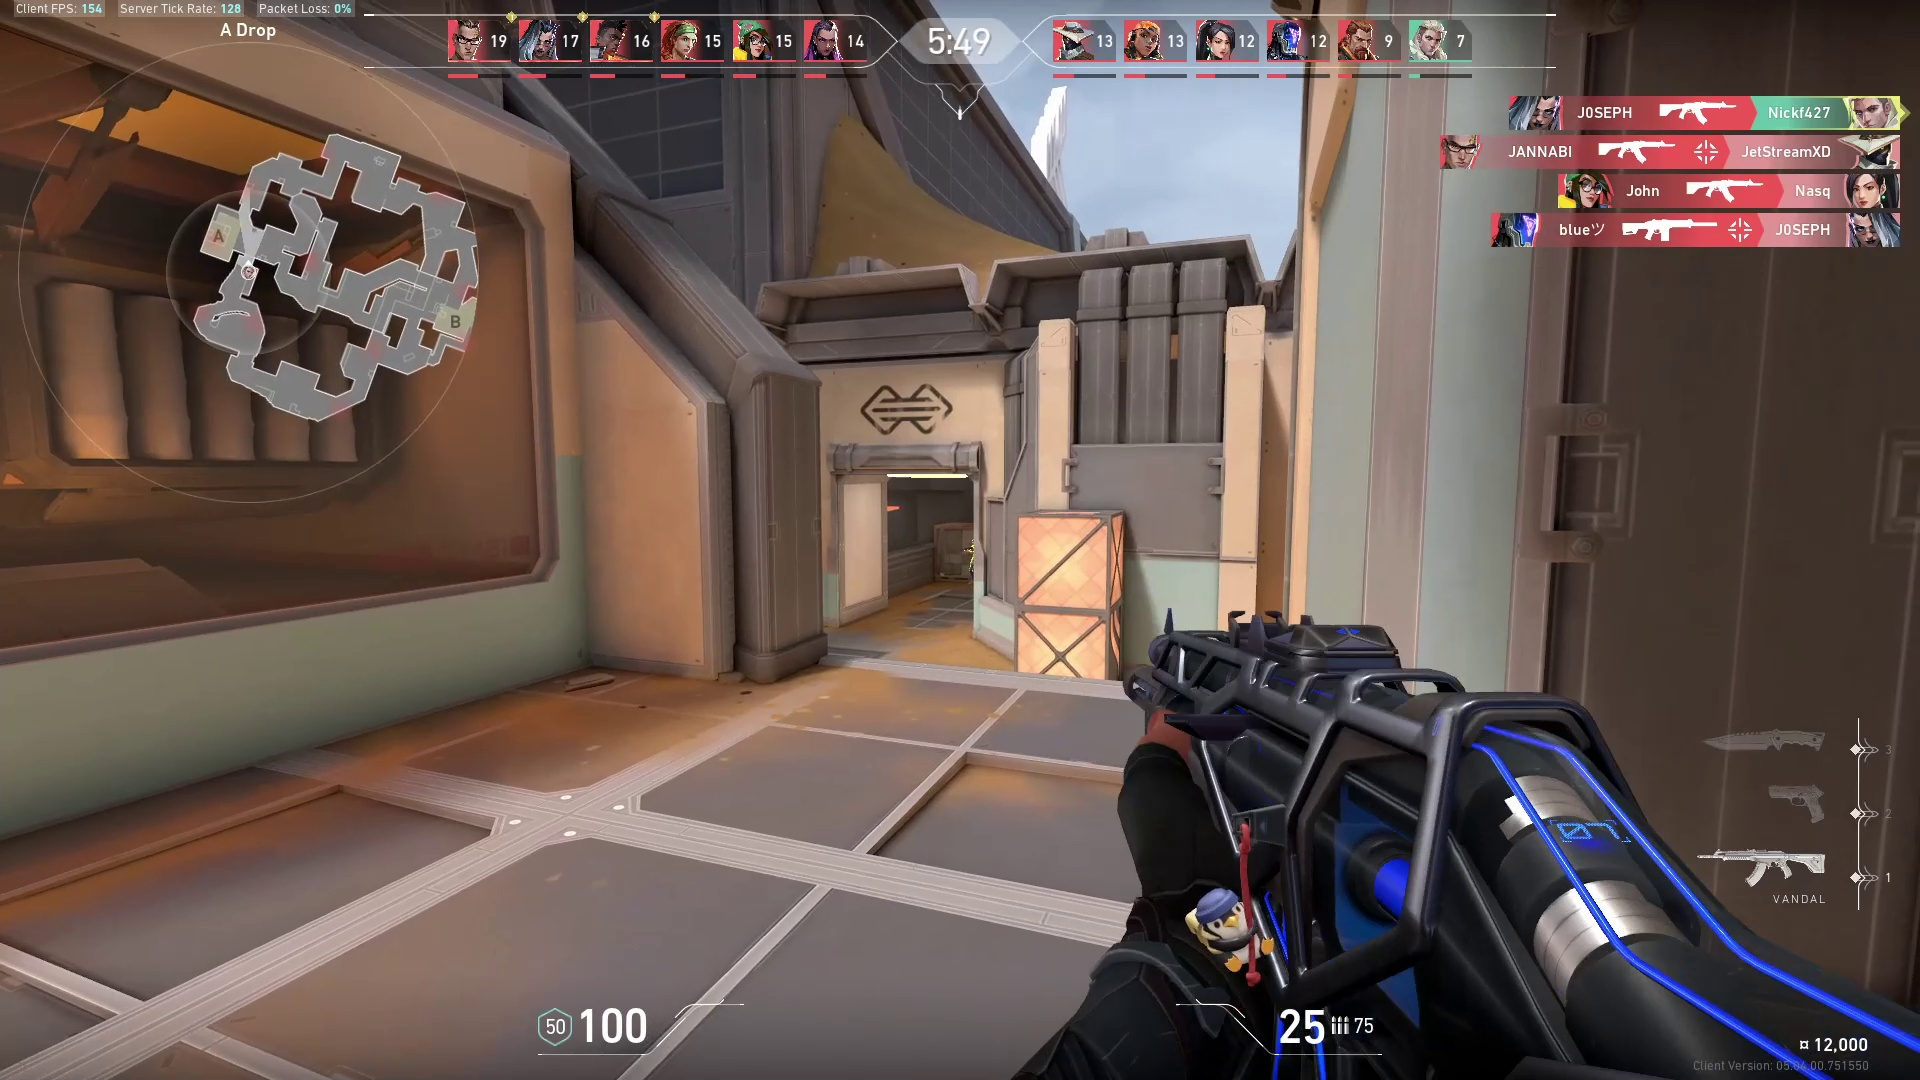enemy_body: (960, 547, 974, 586)
enemy_head: (969, 537, 975, 545)
